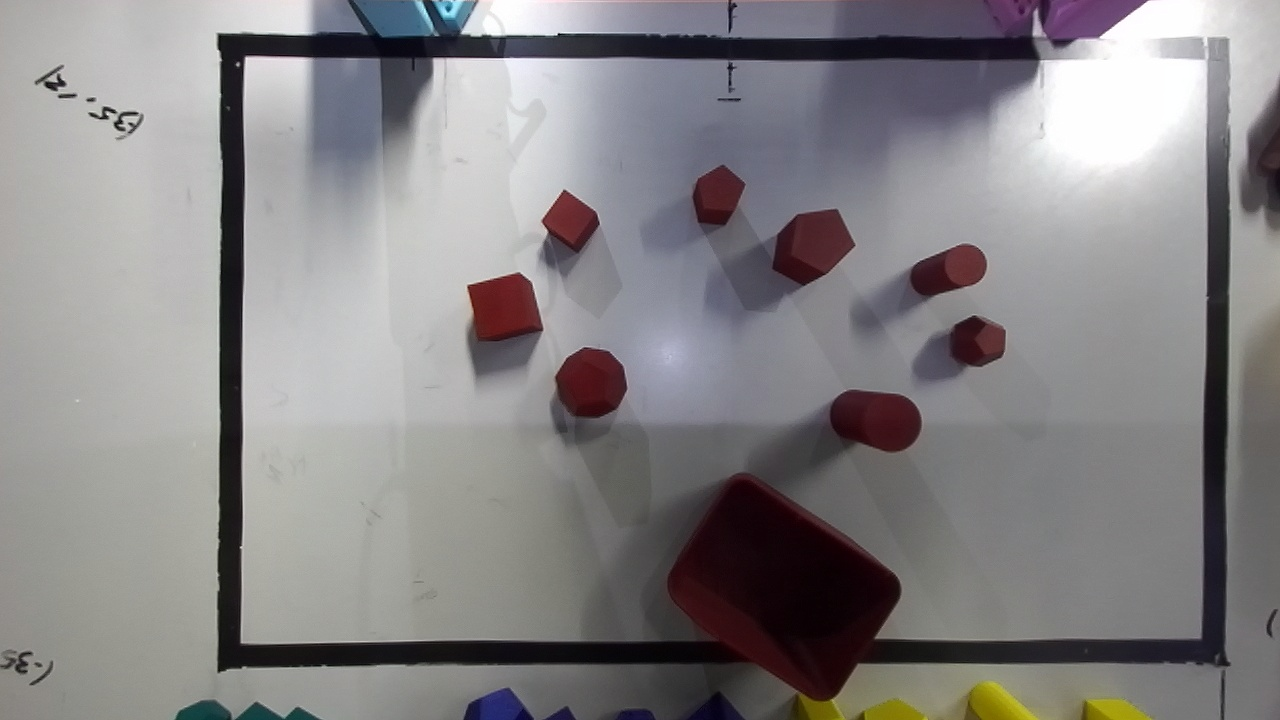bin: (668, 473, 900, 700)
cube: (467, 273, 542, 340), (542, 190, 599, 251)
cylinder: (830, 390, 921, 451), (910, 244, 986, 295)
dodecahedron: (555, 347, 626, 416), (950, 316, 1006, 365)
hexagonal: (772, 209, 854, 284), (693, 165, 744, 224)
